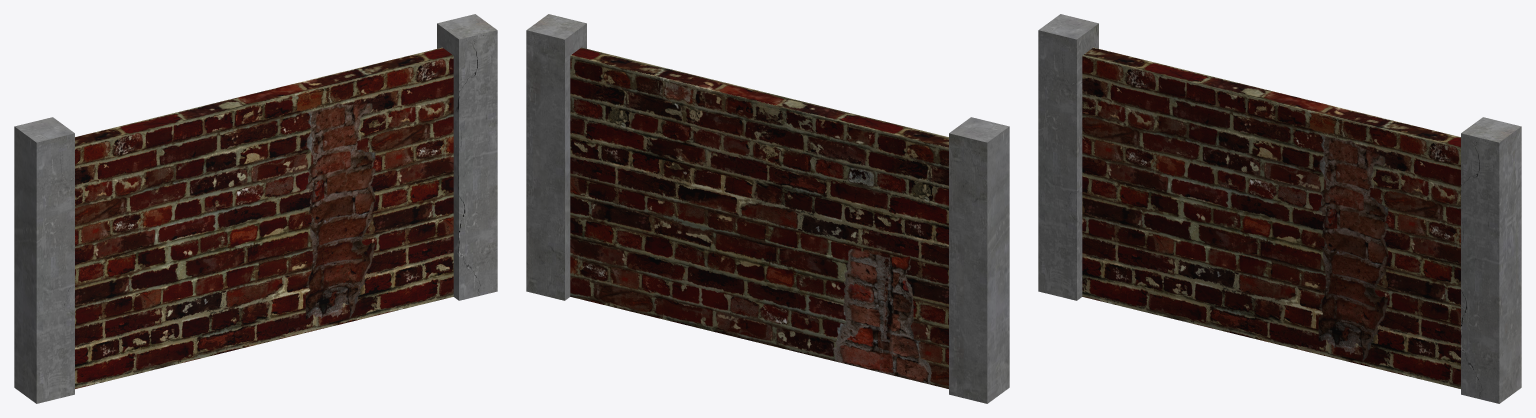
The model's file is wallWhole_Mesh00.fbx.
The picture shows the model from 3 angles, left to right: view 1: azimuth 30°, elevation 25°; view 2: azimuth 150°, elevation 25°; view 3: azimuth 330°, elevation 25°; orthographic projection.
Parts seen in each view (by area): view 1: polySurface1; view 2: polySurface1; view 3: polySurface1.
Boxes of the visible parts, <box> form: polySurface1: <box>14,14,497,403</box>; polySurface1: <box>526,14,1009,403</box>; polySurface1: <box>1038,14,1521,403</box>.
Size of the model in its own units: 144 by 78 by 12.
